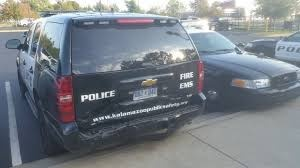Dent: (68, 104, 133, 148)
